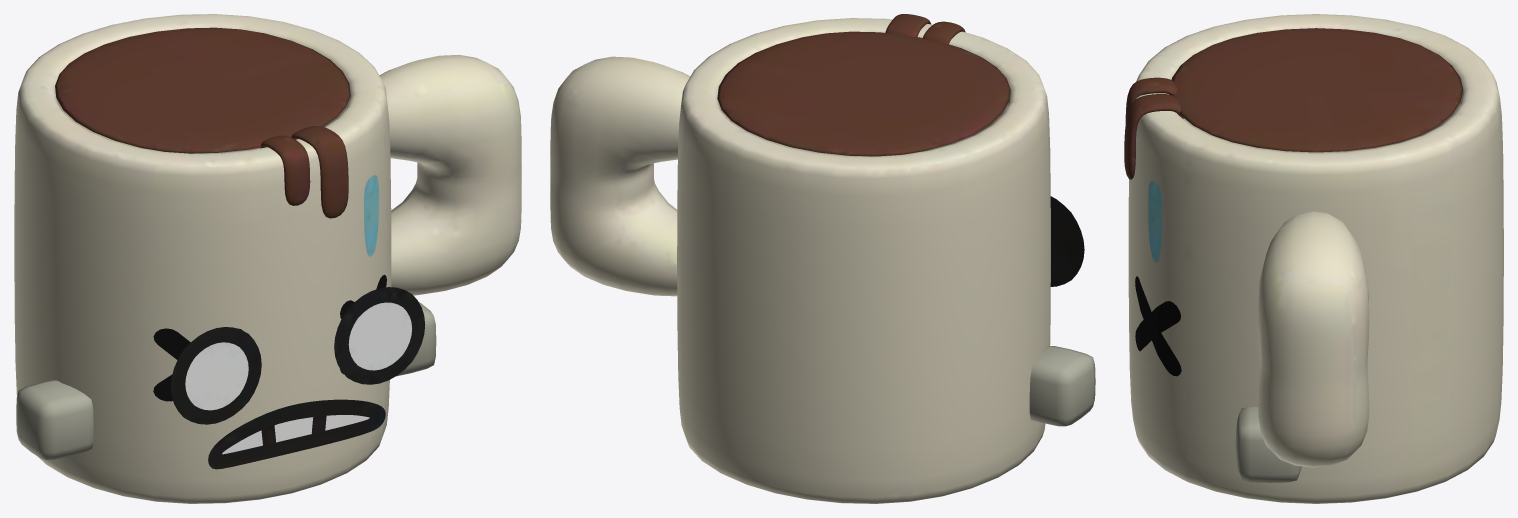
File: coffee.glb
3 renders of one model, left to right at view 1: azimuth 30°, elevation 25°; view 2: azimuth 150°, elevation 25°; view 3: azimuth 270°, elevation 25°, orthographic.
Visible parts, largest first — view 1: body, face_eyes, hand_L, face_dead_eyes, hand_R; view 2: body, hand_L, face_eyes; view 3: body, hand_R, face_dead_eyes.
Part boxes in pixels (x1,y1,x2,y2): body: [14, 14, 521, 503]; face_eyes: [170, 287, 425, 424]; hand_L: [16, 380, 93, 459]; face_dead_eyes: [153, 274, 386, 401]; hand_R: [396, 301, 436, 376]; body: [550, 14, 1050, 503]; hand_L: [1029, 346, 1095, 426]; face_eyes: [1050, 196, 1084, 286]; body: [1124, 14, 1503, 503]; hand_R: [1235, 407, 1301, 482]; face_dead_eyes: [1135, 276, 1181, 376].
Bounding box in the file's own units: 1.53 × 1 × 0.9891.
Materials: 3 (1 with a texture image).
